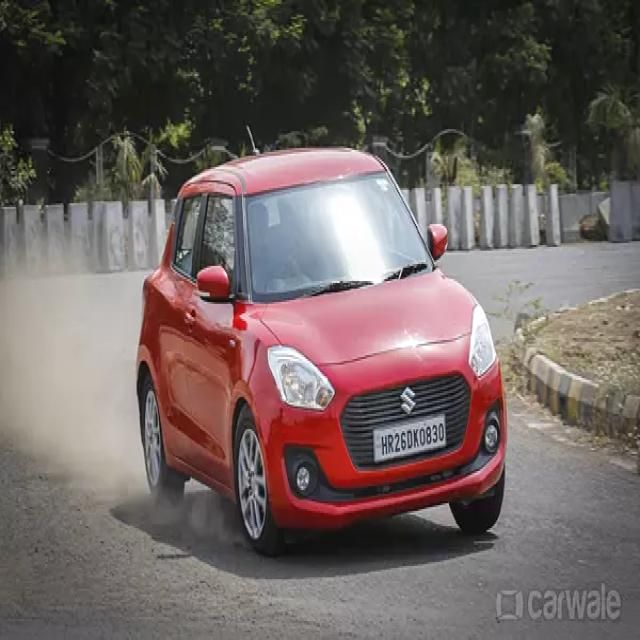red: (114, 134, 515, 570)
